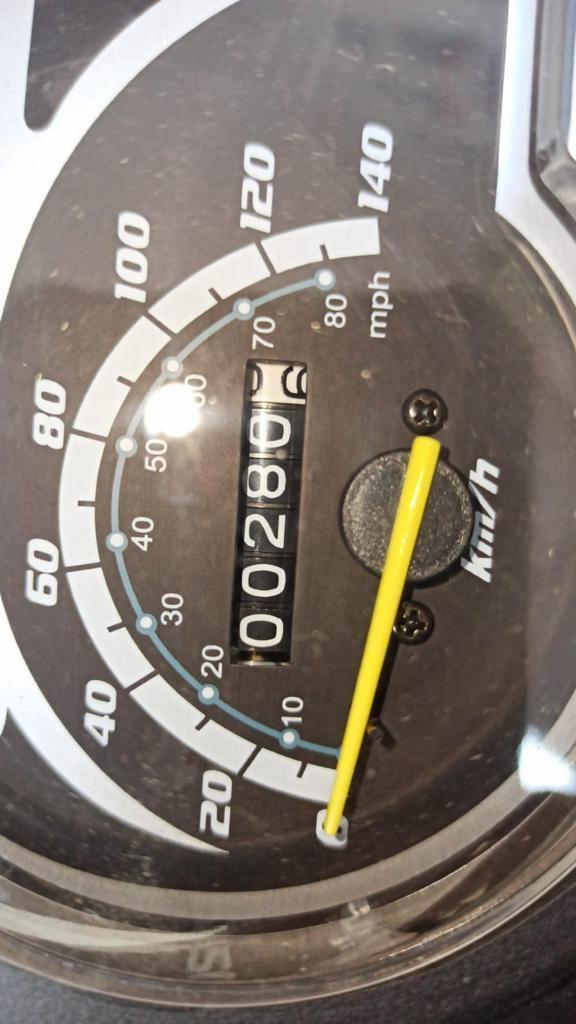0: (235, 559, 294, 599), (241, 410, 294, 451), (235, 614, 287, 651)
2: (241, 511, 295, 549)
6: (278, 360, 317, 399)
8: (237, 461, 291, 499)
odometer: (223, 355, 317, 672)
